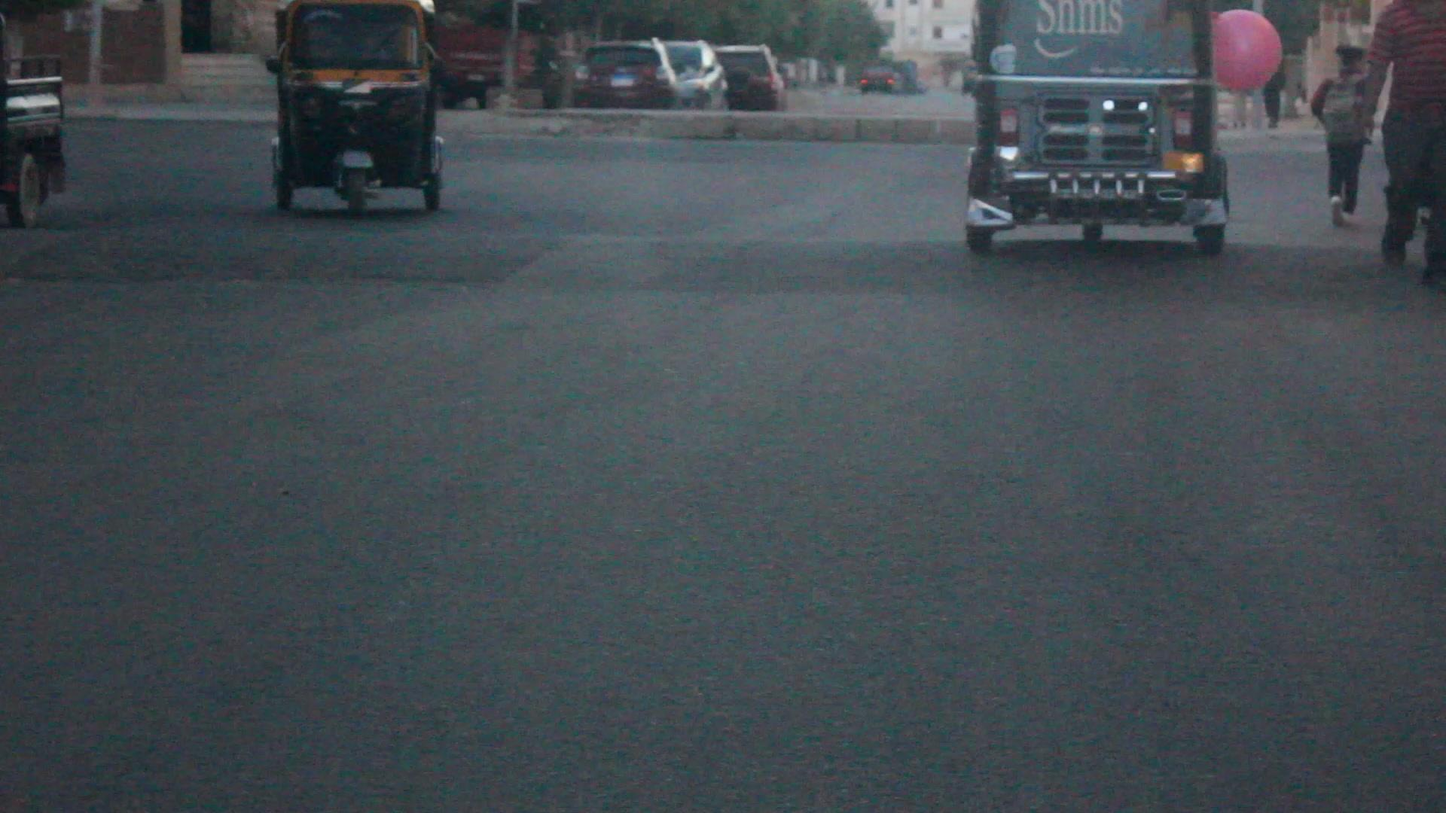Bump: (32, 216, 1446, 312)
